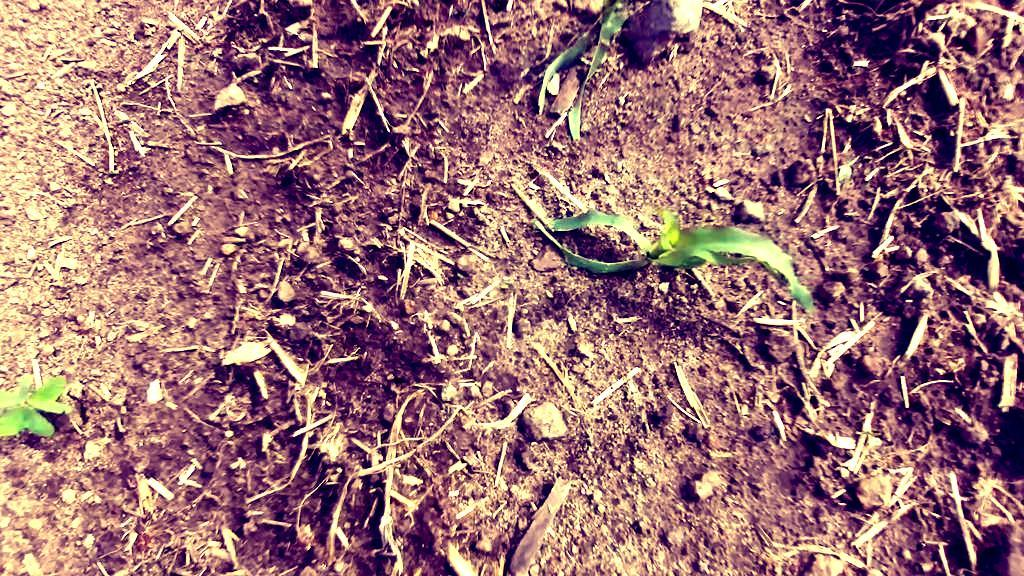BroWeed: (0, 373, 72, 437), (835, 151, 859, 185), (932, 357, 967, 376), (854, 427, 881, 438), (842, 111, 856, 125), (861, 153, 872, 161), (251, 75, 259, 84), (499, 284, 508, 289)
Maize: (528, 185, 828, 314)
